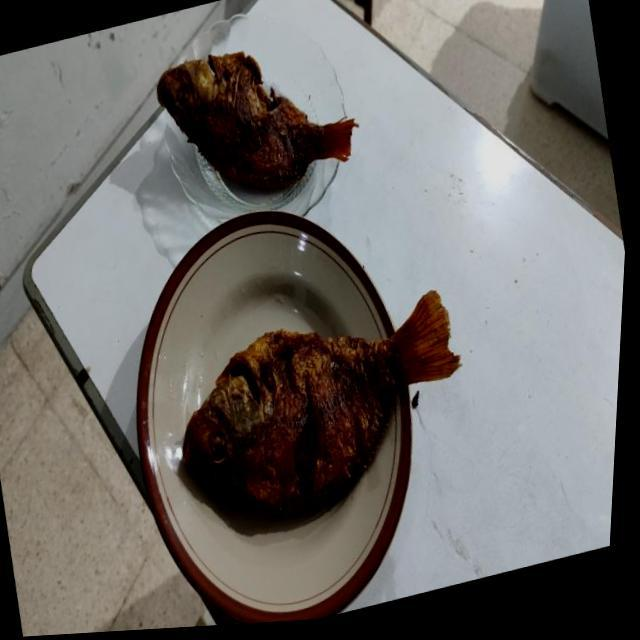ikan_mujair: (182, 290, 460, 512), (157, 52, 358, 190)
